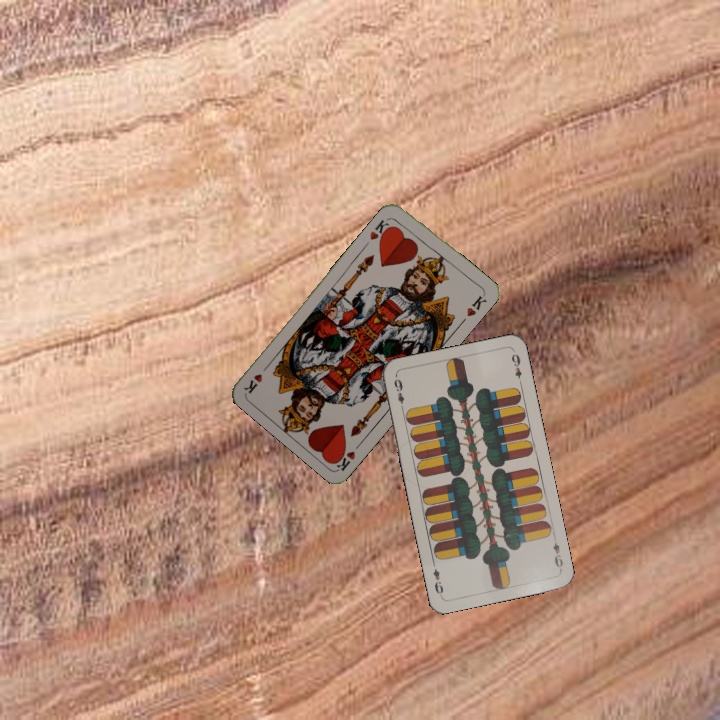E9: (549, 532, 566, 573), (390, 375, 407, 413)
HK: (331, 437, 365, 473), (366, 213, 395, 245)
